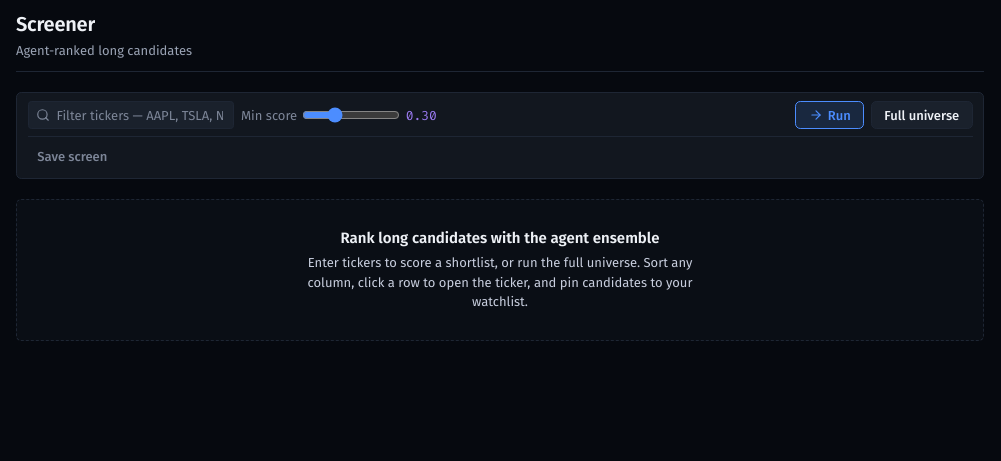
Test: ScreenerPage full-universe GET path (SC-01) › asks Argus for the unfiltered set so the cutoff can filter locally
The image size is (1001, 461).
Click the button "Full universe" at (922, 115), box left=871, top=101, right=972, bottom=129
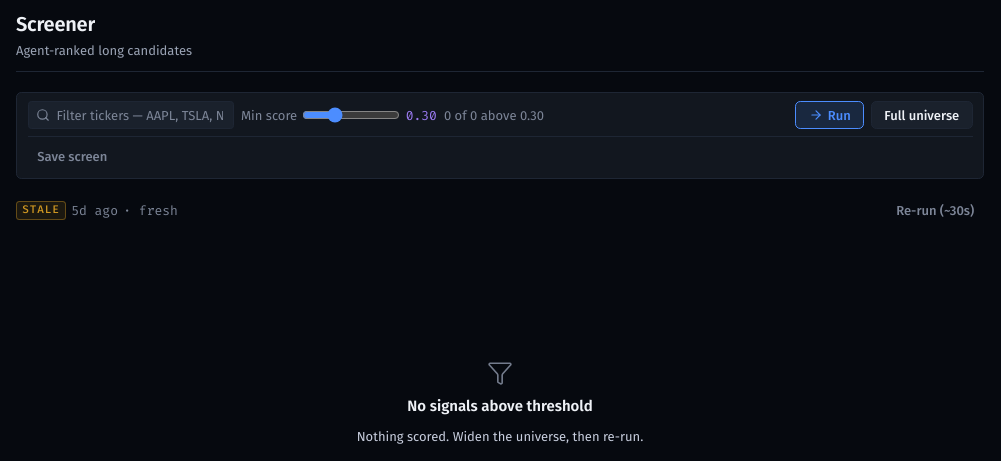
Now the text "0 of 0 above 0.30" is shown, box left=444, top=106, right=544, bottom=125
